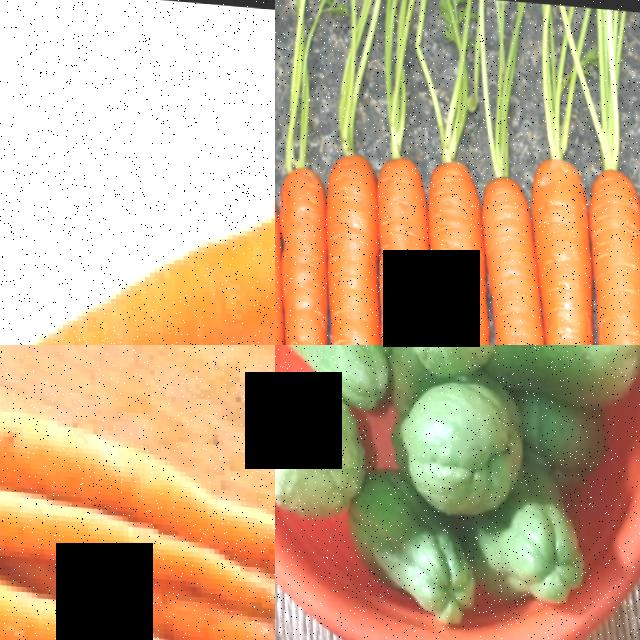carrot: (0, 134, 275, 345), (0, 345, 275, 473), (0, 542, 275, 640), (0, 446, 235, 559), (517, 108, 613, 345), (405, 119, 497, 345), (463, 135, 559, 345), (355, 139, 449, 345), (302, 150, 399, 345), (566, 131, 640, 345), (275, 166, 346, 345)
chayote: (389, 391, 533, 497), (275, 370, 375, 507), (377, 502, 479, 631), (477, 504, 579, 595), (511, 345, 640, 398)
